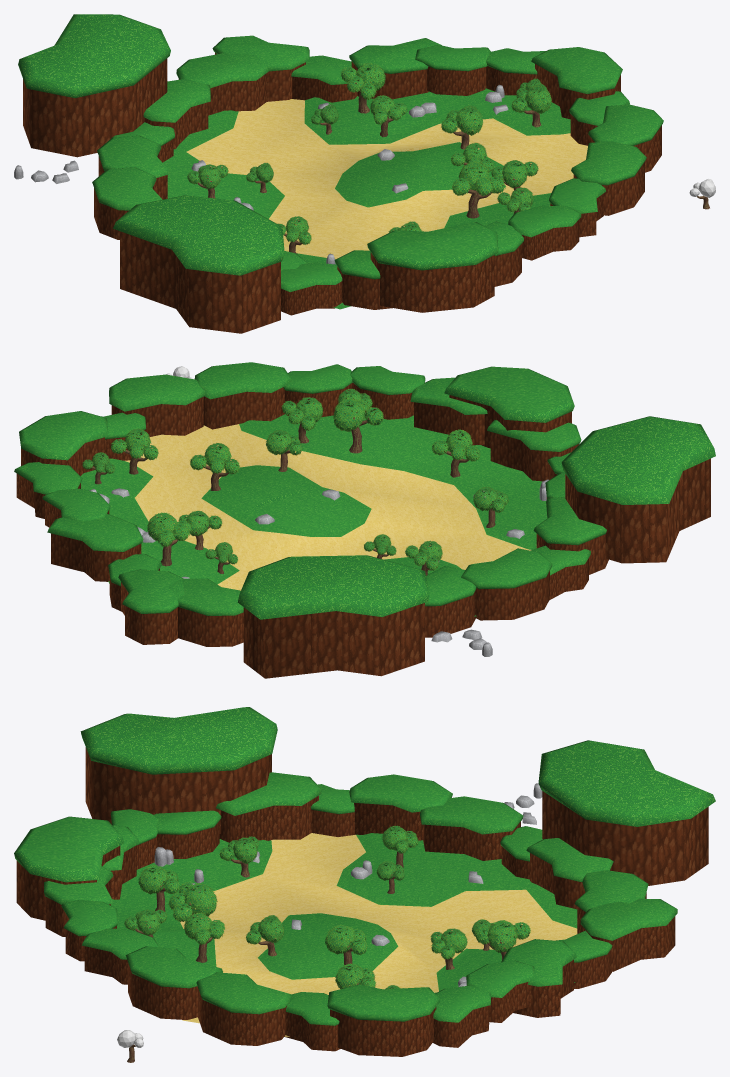
File: landscape.glb
3 renders of one model, top to bottom at view 1: azimuth 30°, elevation 25°; view 2: azimuth 150°, elevation 25°; view 3: azimuth 270°, elevation 25°, orthographic. The views are drawn at different scales.
Visible parts, largest first — view 1: Plane-col, Cube.024-col, Cube.025-col, Cube.023-col, Cube.004-col, Cube.019-col, Cube.008-col, Cube.020-col, Cube.022-col, Cube.015-col, Cube.011-col, Cube.018-col (+22 smaller); view 2: Plane-col, Cube.025-col, Cube.024-col, Cube.023-col, Cube.008-col, Cube.015-col, Cube.009-col, Cube.020-col, Cube.022-col, Cube.004-col, Cube.019-col, Cube.005-col (+23 smaller); view 3: Plane-col, Cube.025-col, Cube.024-col, Cube.023-col, Cube.004-col, Cube.009-col, Cube.013-col, Cube.016-col, Cube.022-col, Cube.008-col, Cube.015-col, Cube.020-col (+26 smaller).
Part boxes in pixels (<box>): Plane-col: <box>163,88,587,309</box>; Cube.024-col: <box>113,195,284,333</box>; Cube.025-col: <box>18,14,170,157</box>; Cube.023-col: <box>367,222,498,312</box>; Cube.004-col: <box>531,47,622,119</box>; Cube.019-col: <box>176,52,268,115</box>; Cube.008-col: <box>571,141,646,215</box>; Cube.020-col: <box>349,38,441,99</box>; Cube.022-col: <box>212,35,309,101</box>; Cube.015-col: <box>92,167,162,239</box>; Cube.011-col: <box>508,205,581,260</box>; Cube.018-col: <box>143,79,210,149</box>; Plane-col: <box>80,414,547,616</box>; Cube.025-col: <box>237,555,429,678</box>; Cube.024-col: <box>561,416,715,563</box>; Cube.023-col: <box>444,366,574,448</box>; Cube.008-col: <box>194,362,291,429</box>; Cube.015-col: <box>461,548,552,620</box>; Cube.009-col: <box>109,374,204,436</box>; Cube.020-col: <box>47,513,143,581</box>; Cube.022-col: <box>118,569,184,644</box>; Cube.004-col: <box>19,411,107,475</box>; Cube.019-col: <box>168,578,243,646</box>; Cube.005-col: <box>487,419,581,481</box>; Plane-col: <box>111,833,577,1036</box>; Cube.025-col: <box>538,740,715,885</box>; Cube.024-col: <box>80,707,277,833</box>; Cube.023-col: <box>14,816,123,920</box>; Cube.004-col: <box>327,984,439,1056</box>; Cube.009-col: <box>196,972,293,1045</box>; Cube.013-col: <box>216,772,321,843</box>; Cube.016-col: <box>419,796,523,860</box>; Cube.022-col: <box>580,898,677,971</box>; Cube.008-col: <box>125,946,222,1019</box>; Cube.015-col: <box>349,774,452,840</box>; Cube.020-col: <box>501,939,576,1017</box>.
Size of the model in its own units: 143 by 20.92 by 146.
Materials: 6 (6 with a texture image).
